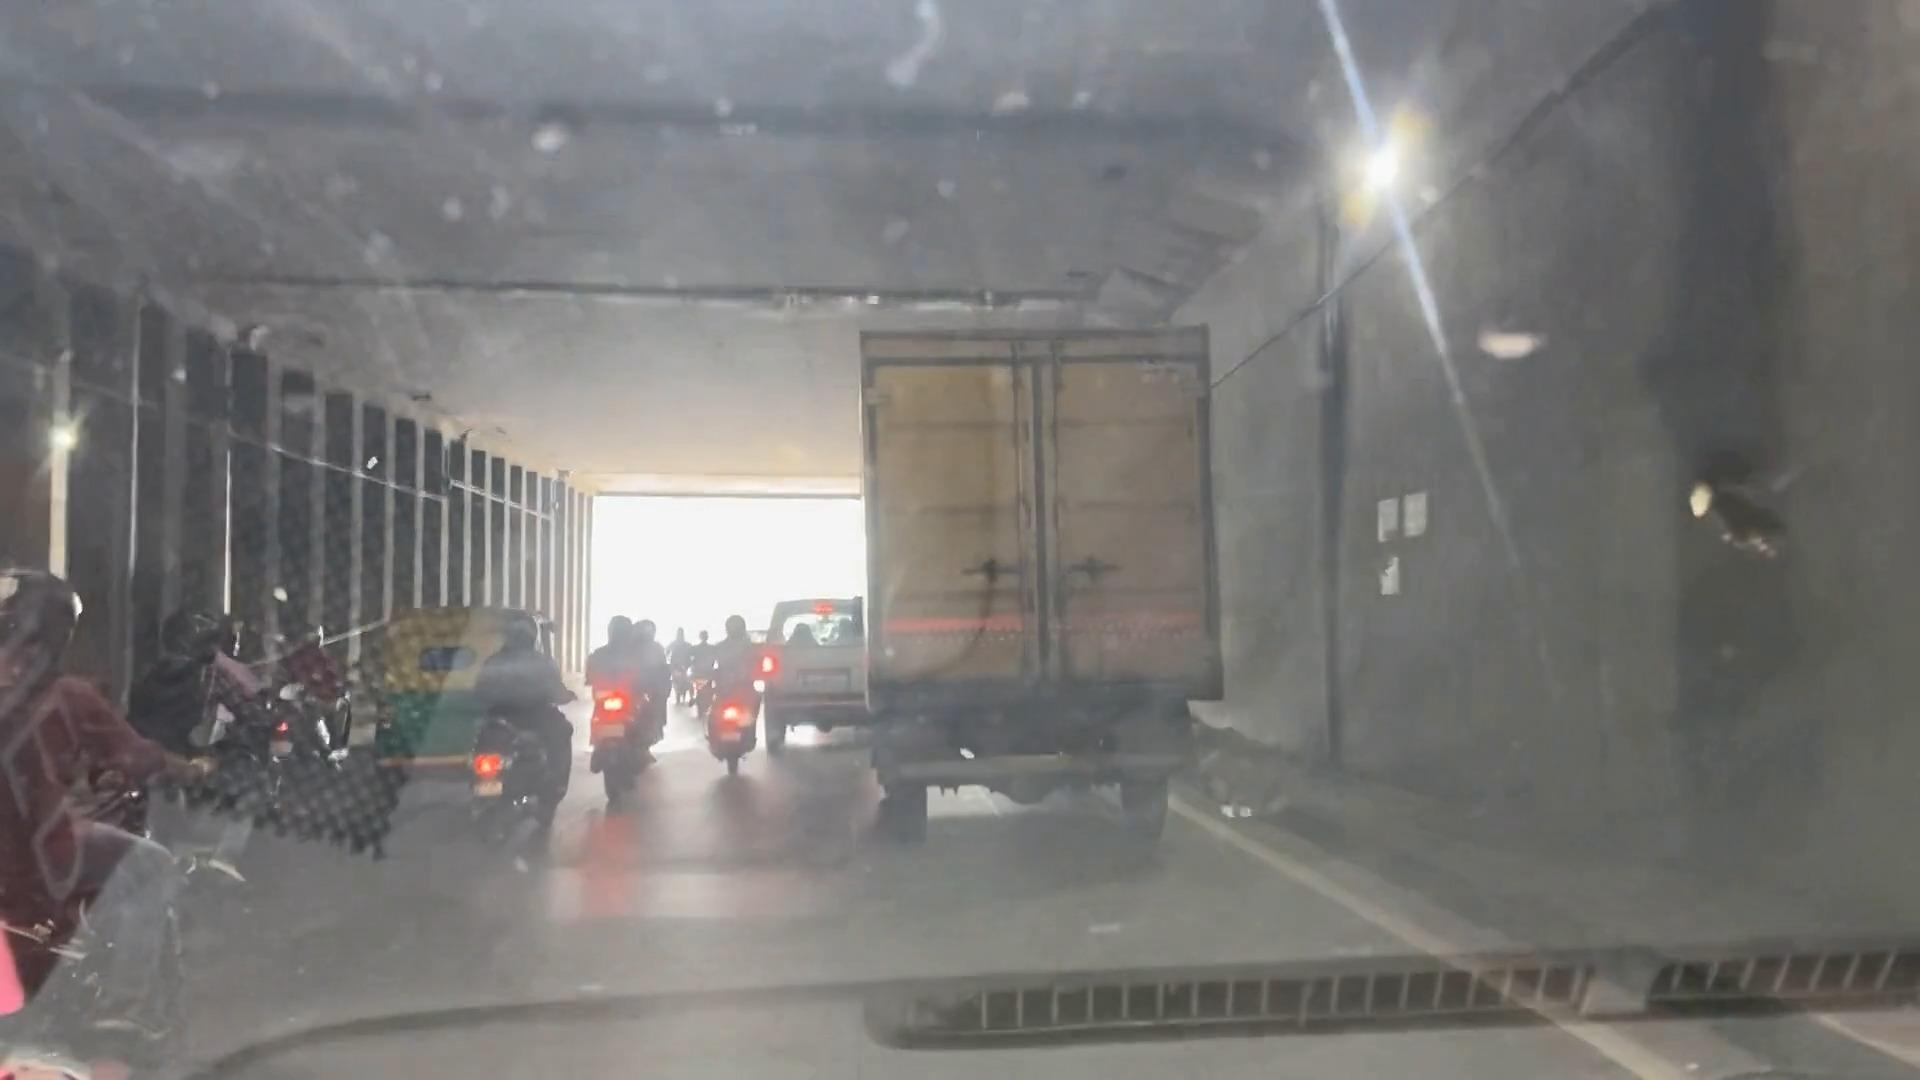HMV: (857, 336, 1218, 814)
LMV: (463, 620, 564, 860), (587, 613, 657, 810), (704, 607, 753, 775)
